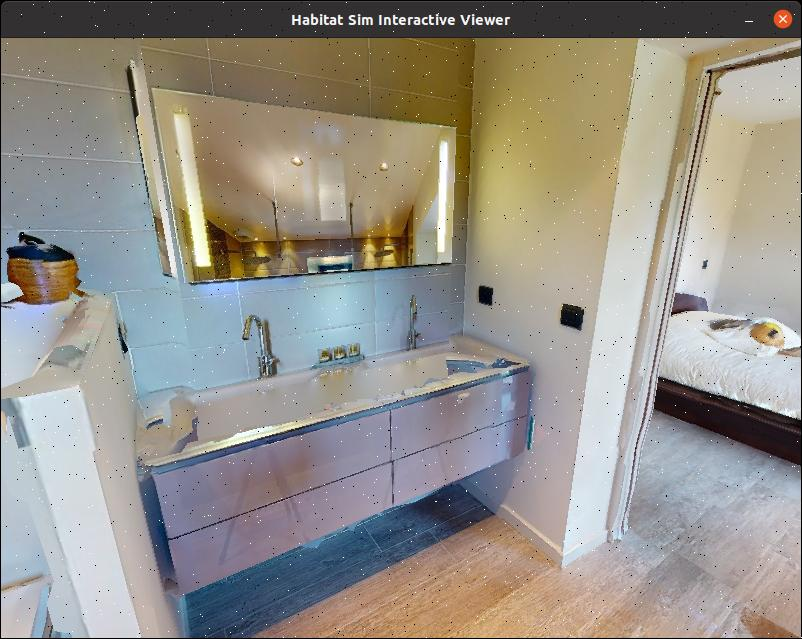bed: (635, 301, 802, 440)
sink: (166, 299, 507, 444)
